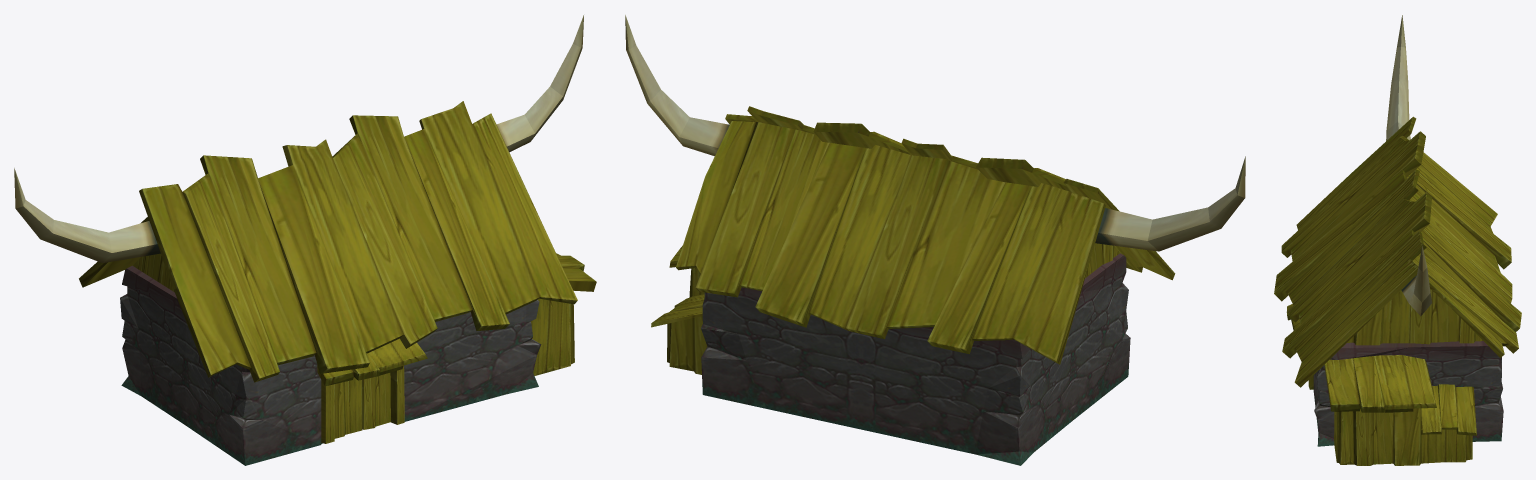
Rendered from Cunluo_fangzi02.FBX.
3 views of the same model, side by side, from view 1: azimuth 30°, elevation 25°; view 2: azimuth 150°, elevation 25°; view 3: azimuth 270°, elevation 25° (orthographic). The views are drawn at different scales.
Parts seen in each view (by area): view 1: Cunluo_fangzi02; view 2: Cunluo_fangzi02; view 3: Cunluo_fangzi02.
Boxes of the visible parts, x1,y1,x2,y2 form: Cunluo_fangzi02: (14, 15, 596, 465); Cunluo_fangzi02: (625, 15, 1245, 465); Cunluo_fangzi02: (1274, 15, 1521, 465).
Size of the model in its own units: 678 by 334 by 305.
